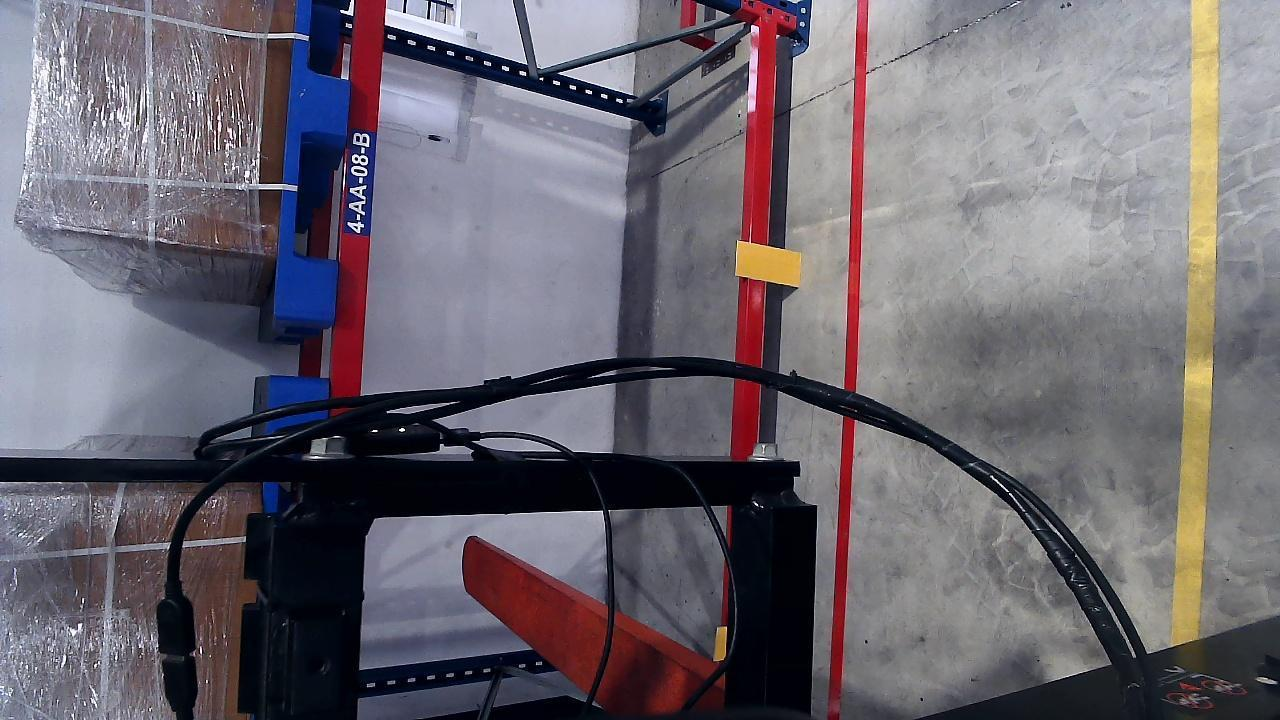red_line: (826, 2, 869, 720)
yellow_line: (1172, 0, 1221, 650)
